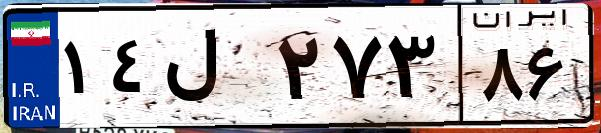1: (57, 26, 110, 100)
2: (270, 28, 330, 110)
3: (385, 28, 445, 110)
4: (110, 28, 158, 98)
6: (525, 38, 570, 115)
7: (330, 28, 385, 110)
8: (475, 38, 525, 113)
ل: (158, 20, 270, 120)
